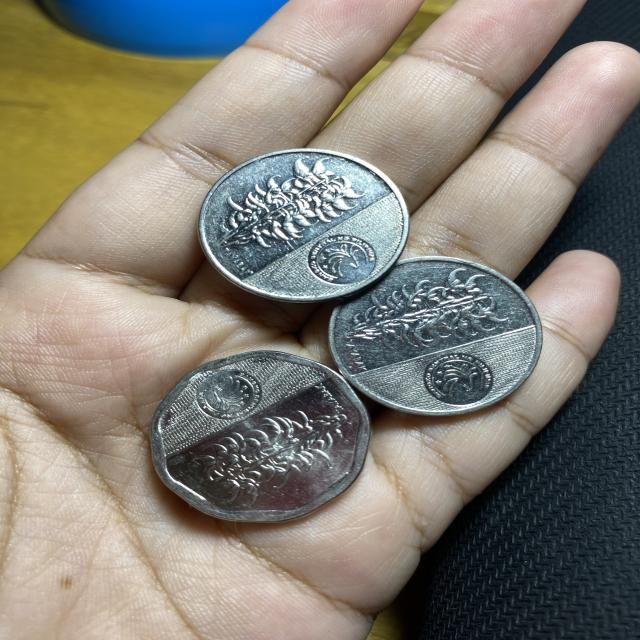5_New_Back: (204, 409, 363, 501), (352, 267, 500, 351), (225, 167, 358, 255)
